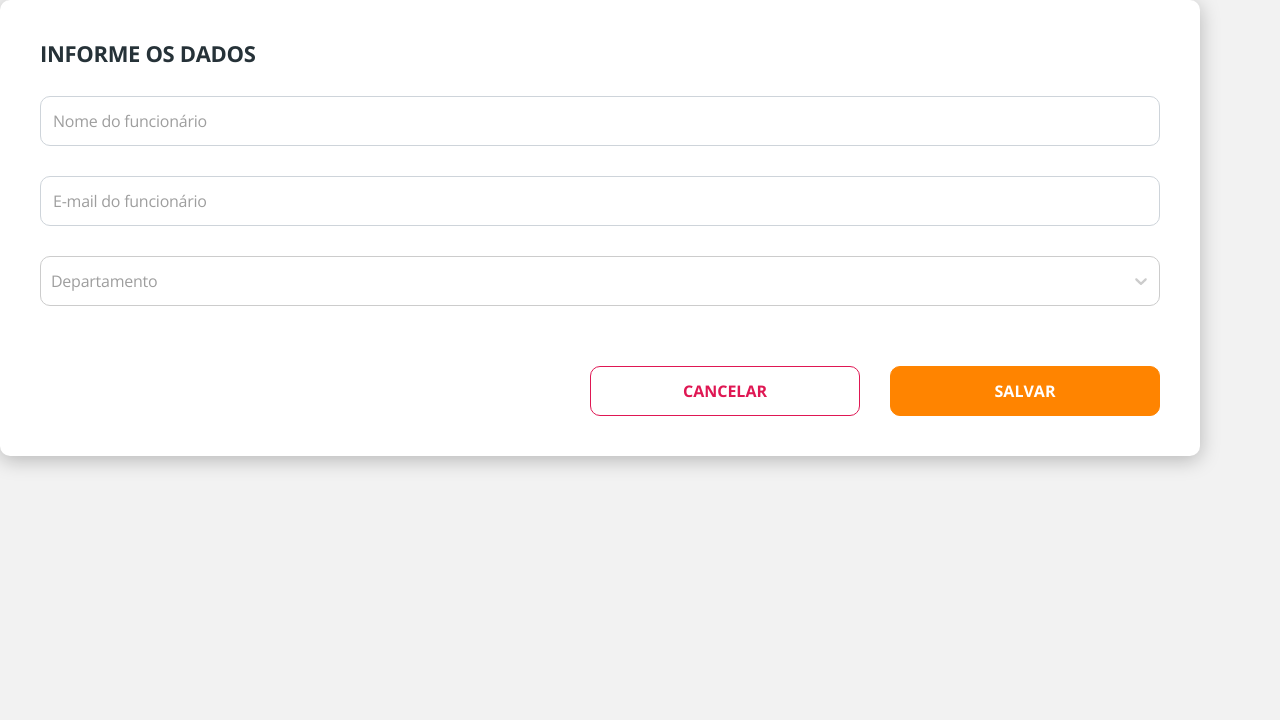
Scenario: Employee form create tests › should validate email syntax
Step 1. Type "abel@gmail." into the field with test id "email" → (600, 201), box left=40, top=176, right=1160, bottom=226
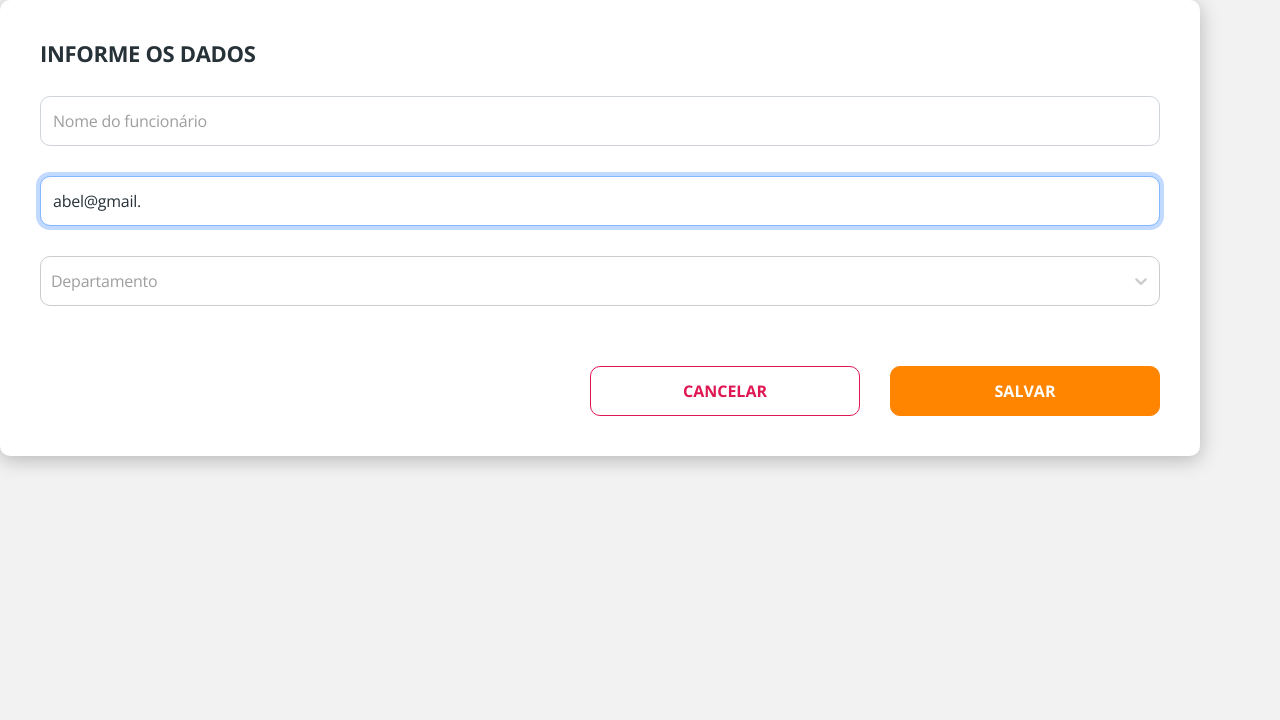
Step 2. Click the button "SALVAR" → (1025, 391), box left=890, top=366, right=1160, bottom=416
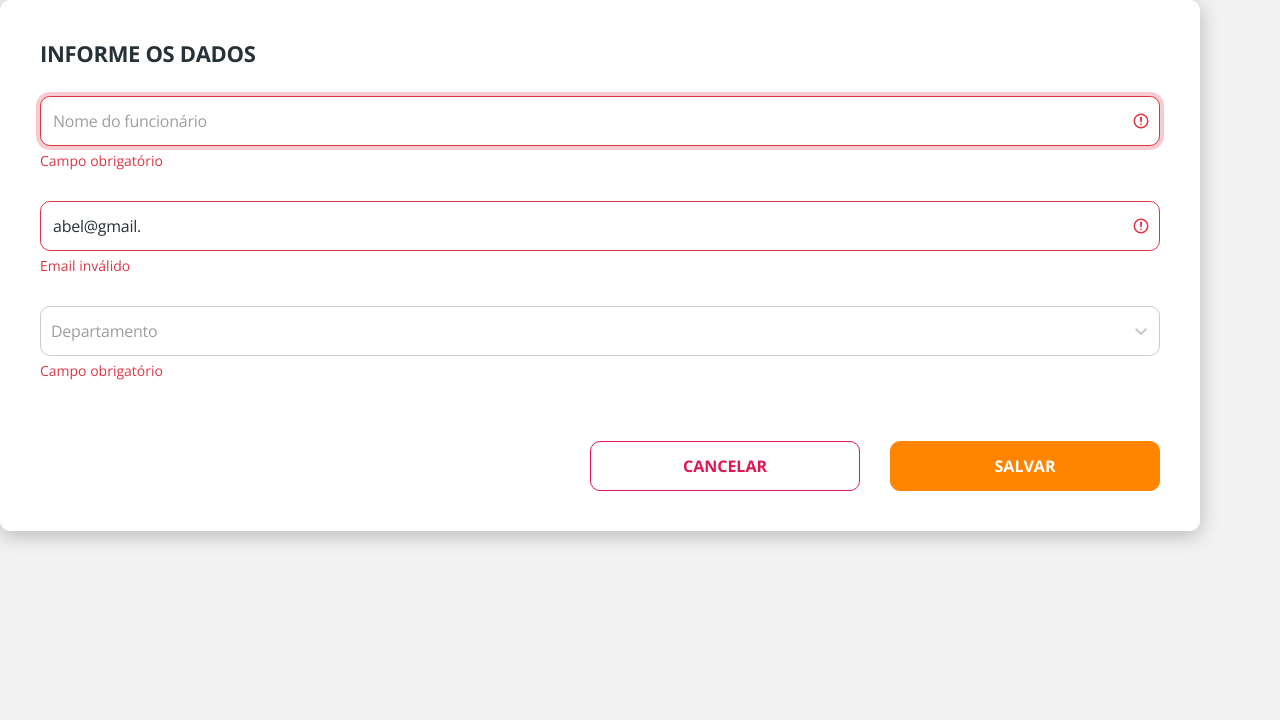
Expected: the text "Email inválido" is shown, left=40, top=256, right=130, bottom=275
